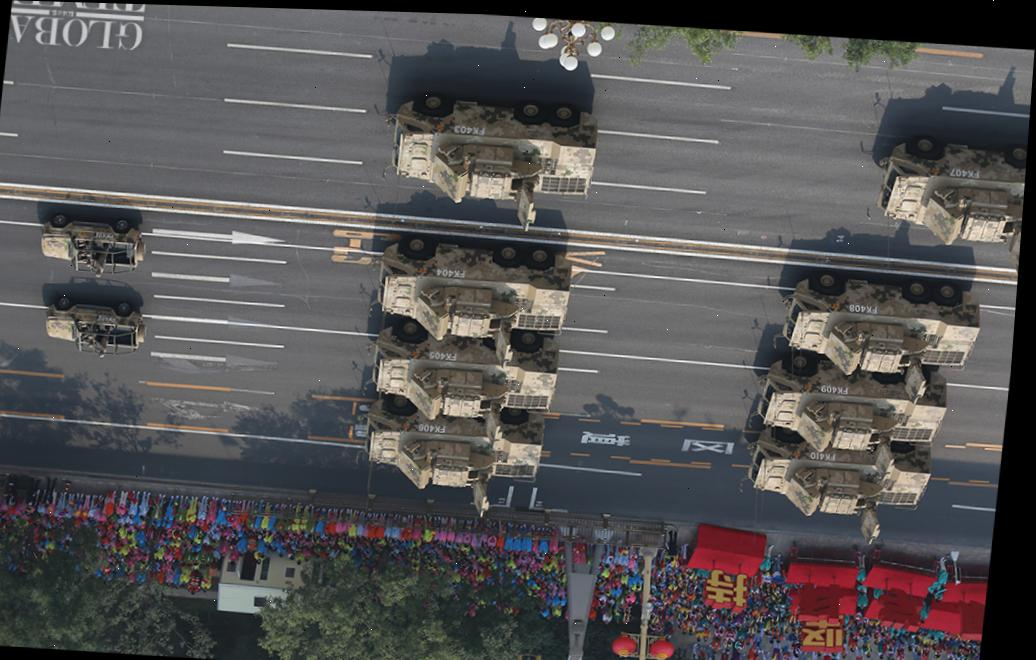armored_car: (367, 89, 601, 233), (768, 268, 984, 385), (365, 232, 577, 351), (365, 312, 564, 425), (742, 346, 955, 443), (864, 132, 1028, 250), (354, 402, 544, 498), (733, 429, 932, 519), (33, 210, 146, 276), (38, 293, 148, 359)
